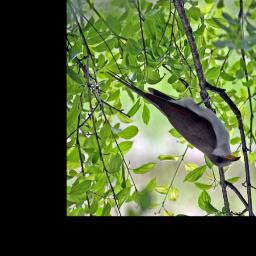Cuckoo: (108, 68, 242, 167)
